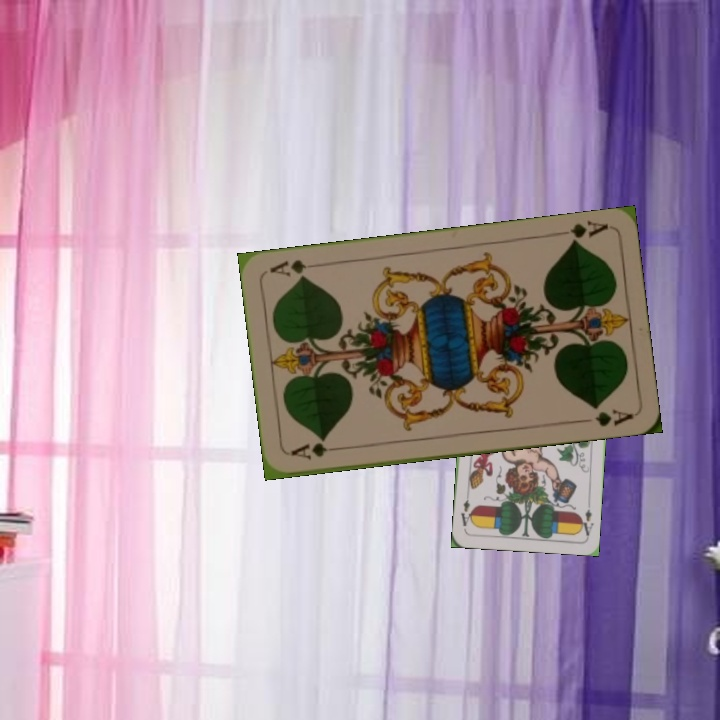EA: (576, 499, 596, 539)
GA: (287, 439, 346, 463), (566, 217, 611, 247)
